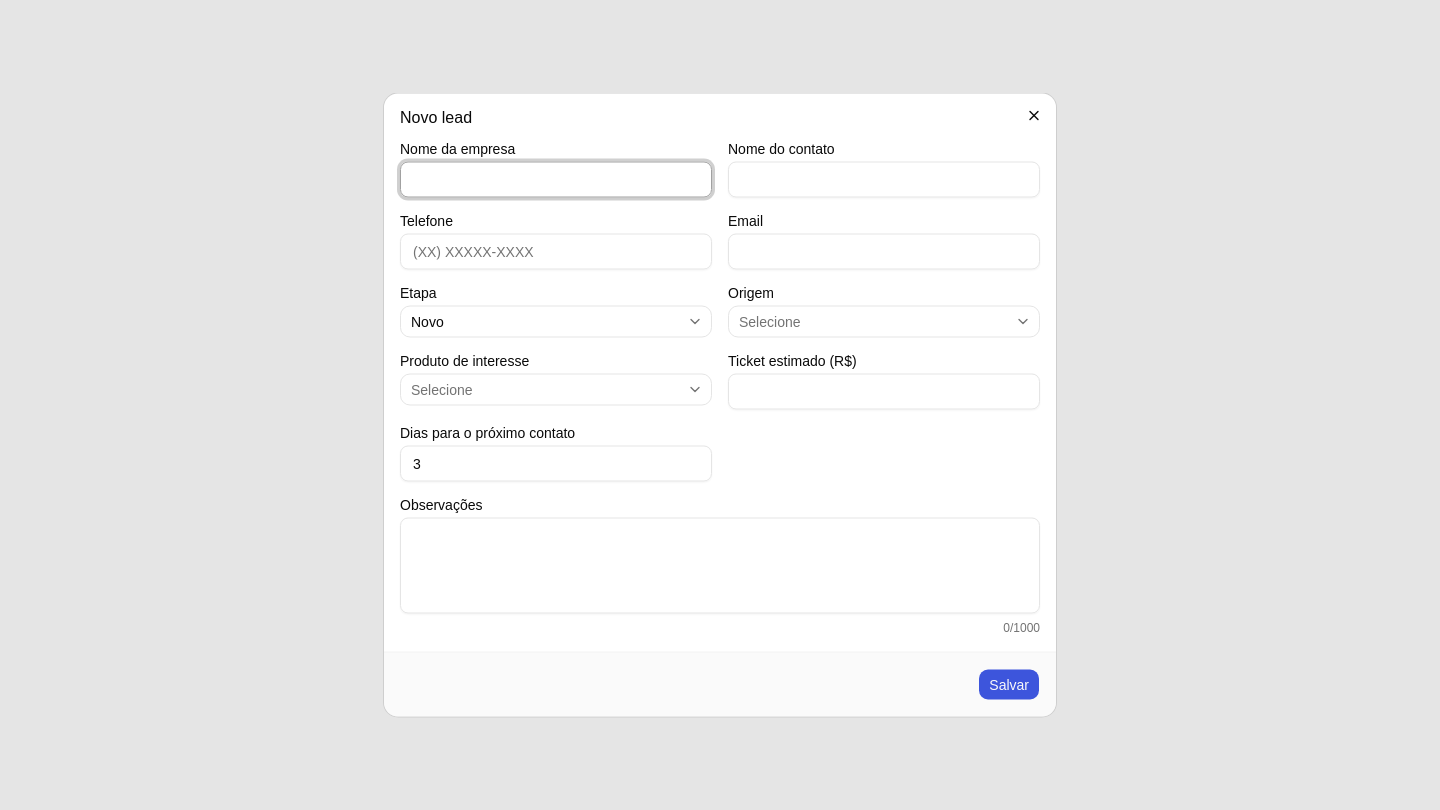
it: LeadFormDialog › bloqueia salvar com nome da empresa muito curto e mostra erro no campo
In the field labelled "Nome da empresa": coordinates (556, 180) [400,162,712,198], type "A"
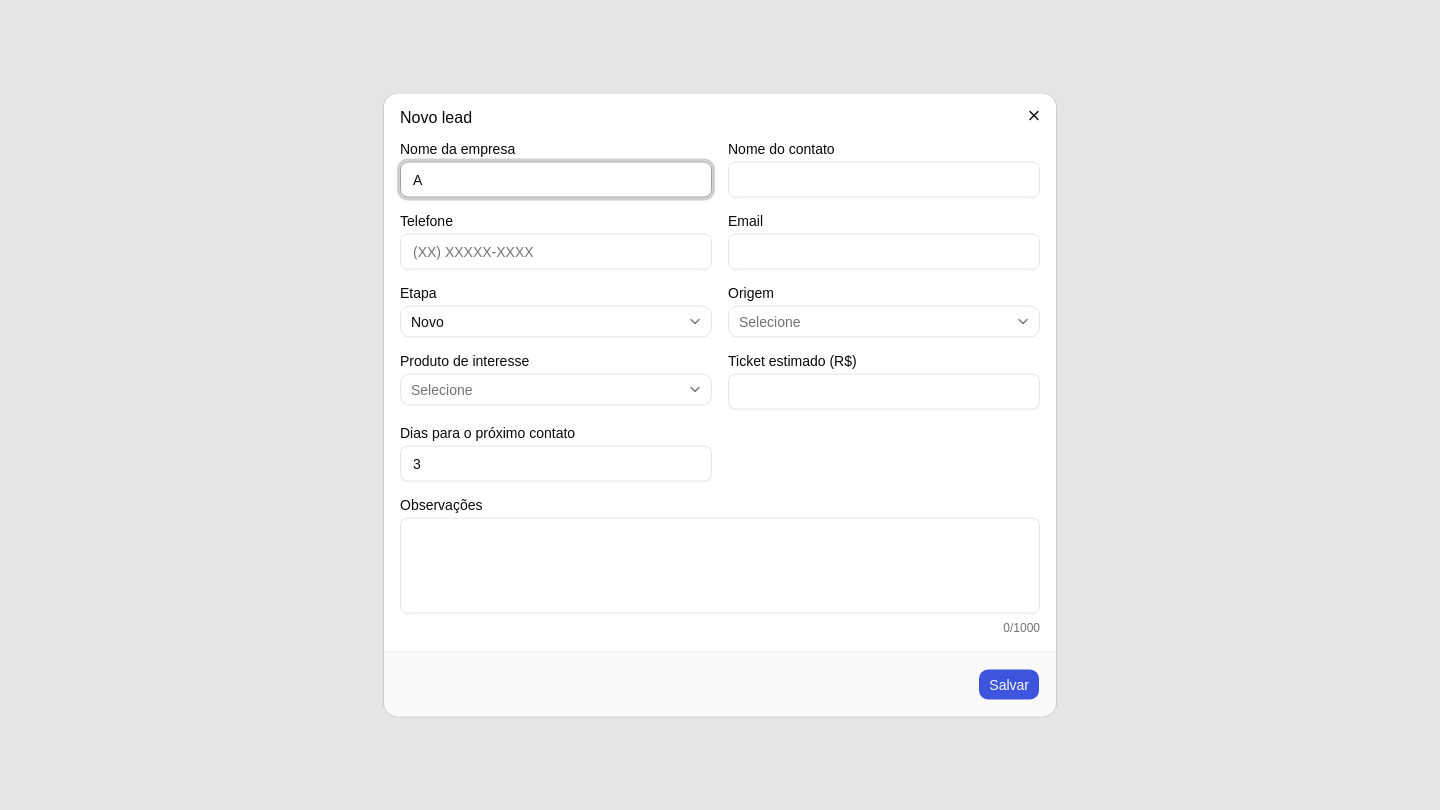
In the field labelled "Nome do contato": coordinates (884, 180) [728,162,1040,198], type "Bruno"
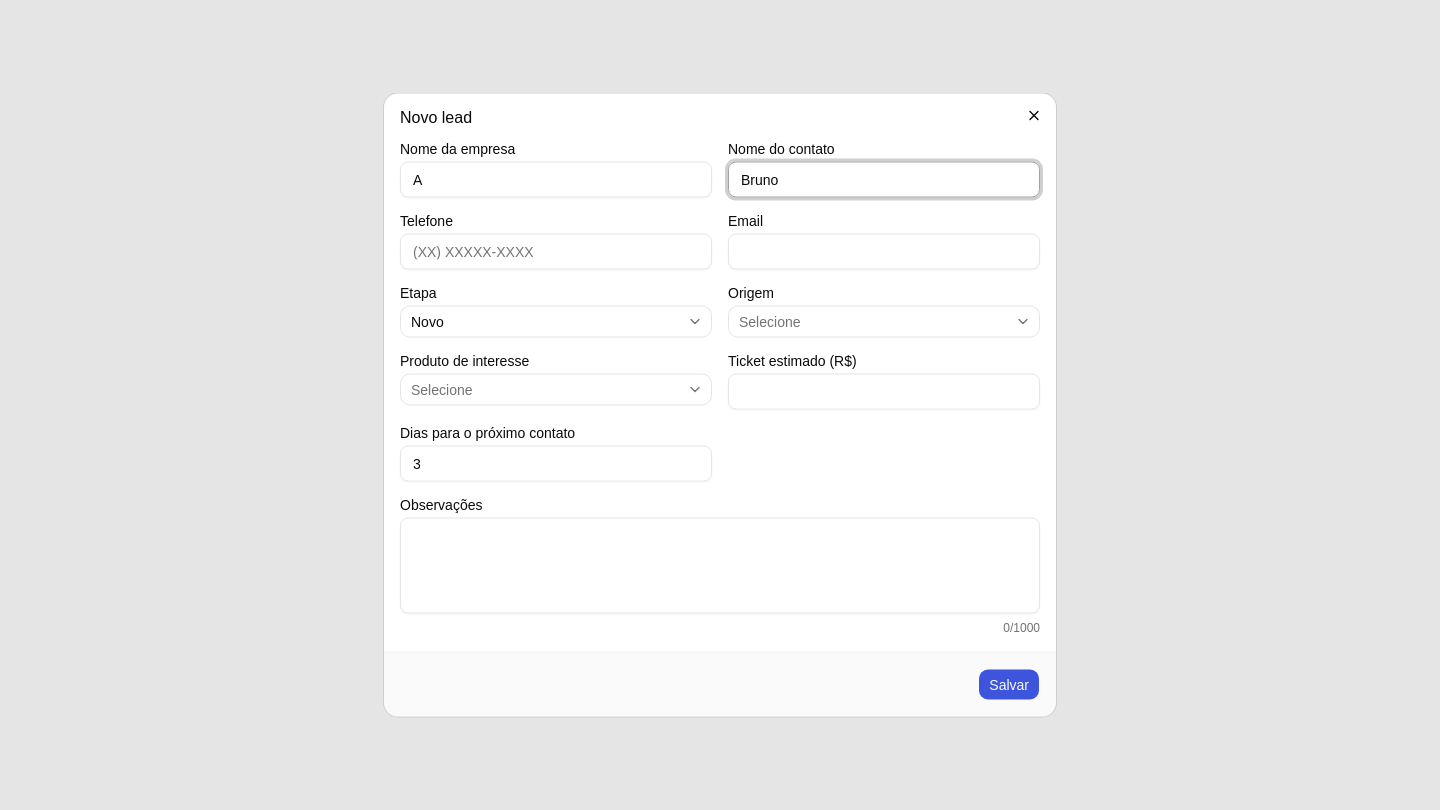
In the field labelled "Telefone": coordinates (556, 252) [400,234,712,270], type "11988887777"
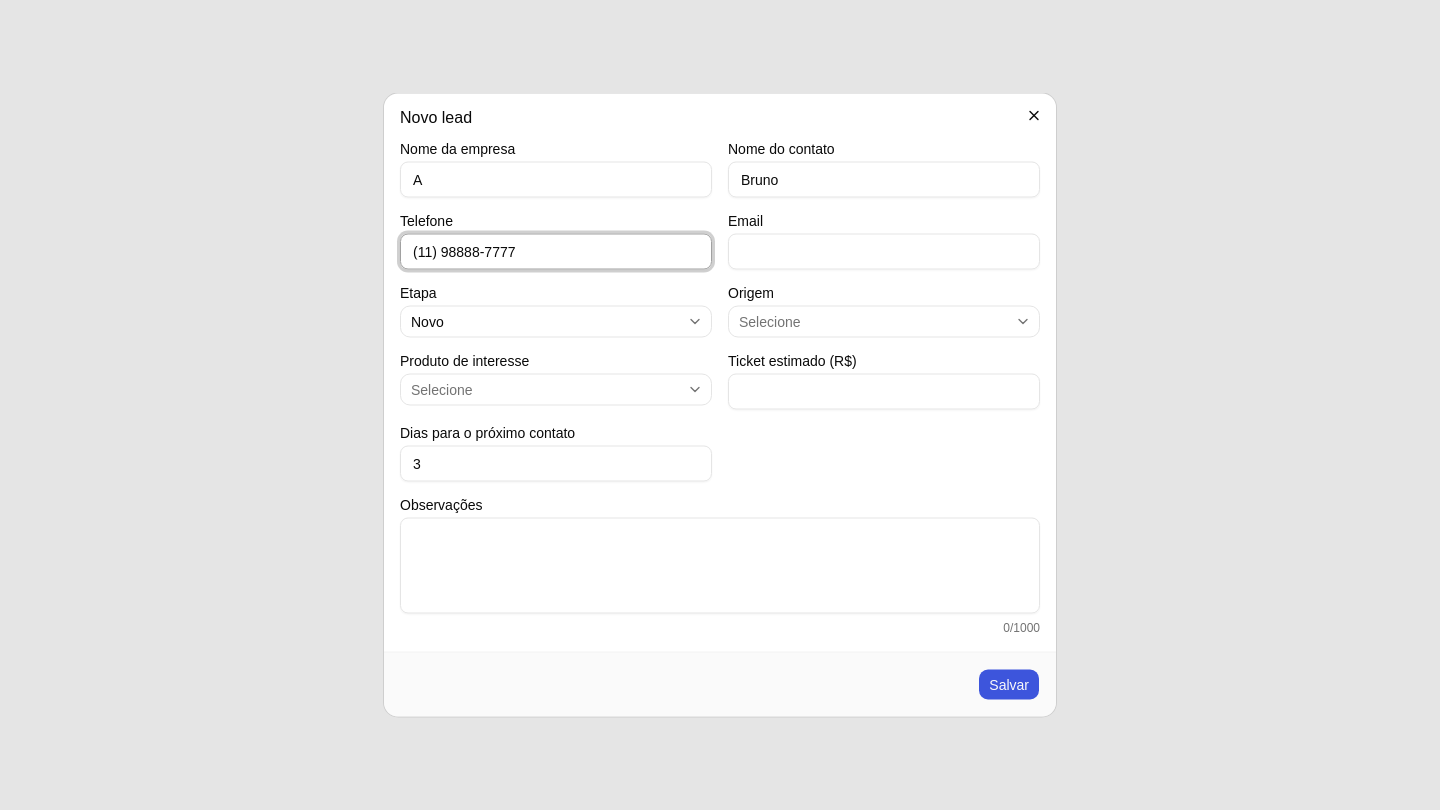
Click the button "Salvar": coordinates (1009, 684) [978,668,1040,700]
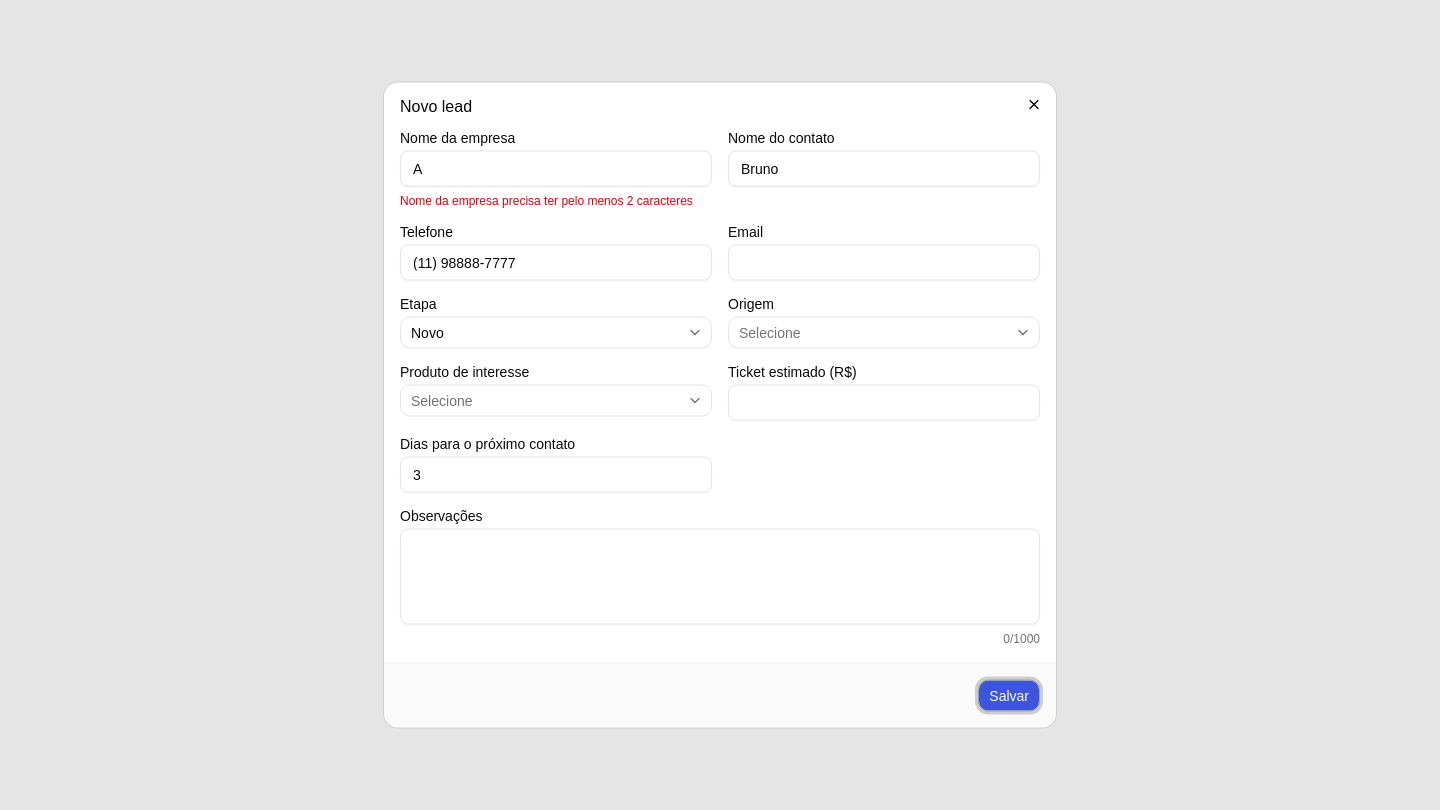
Now the text "Nome da empresa precisa ter pelo menos 2 caracteres" is shown, box [400,192,712,208]
